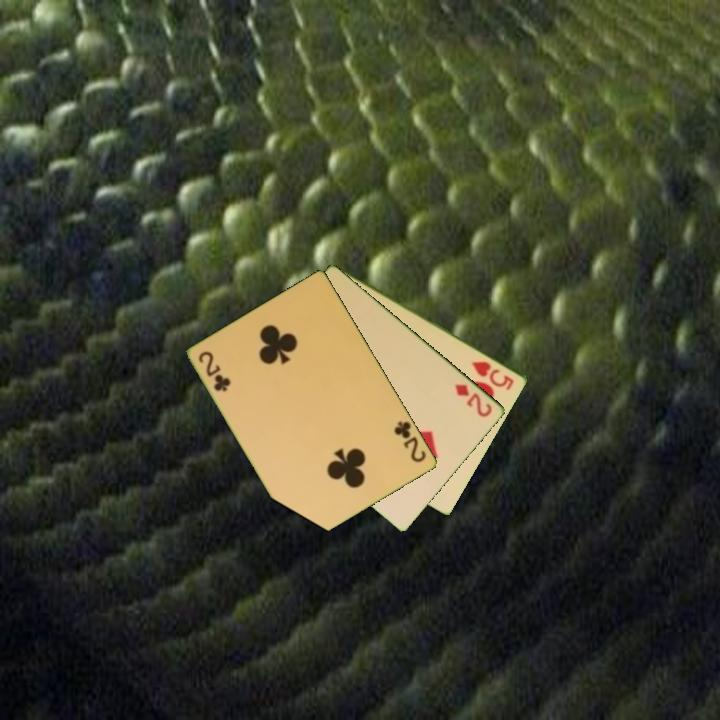2c: (195, 348, 234, 395), (391, 418, 429, 466)
2d: (451, 380, 495, 420)
5h: (469, 357, 517, 393)
